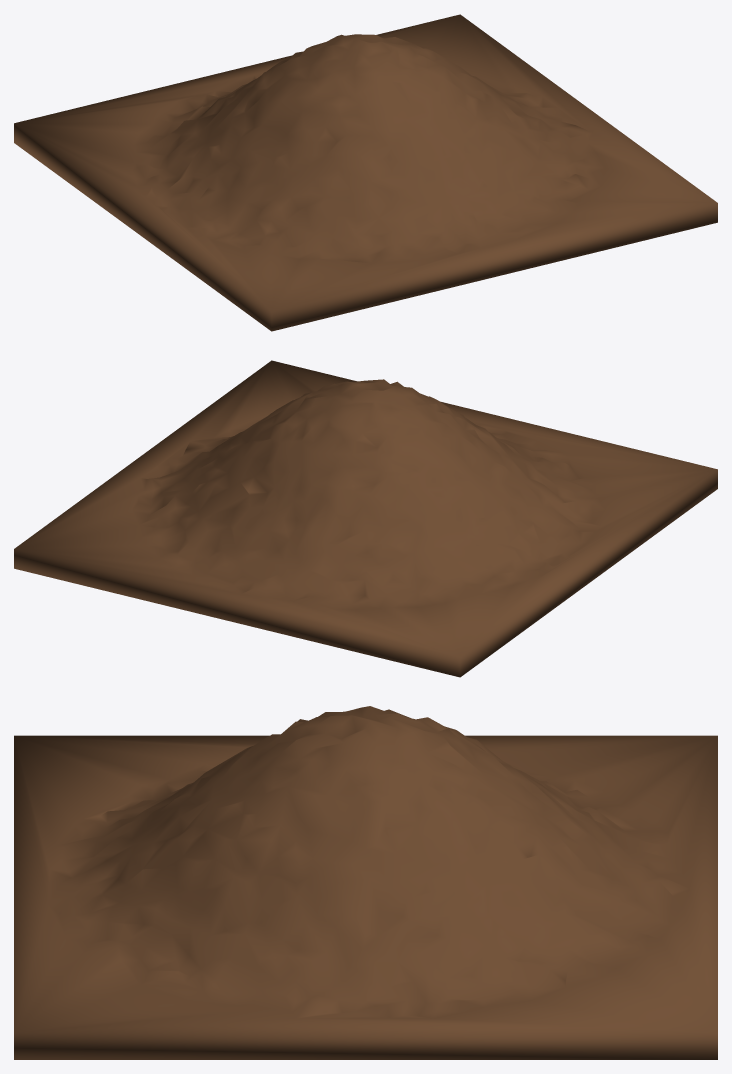
File: Monticulo_tierra.fbx
The picture shows the model from 3 angles, top to bottom: view 1: azimuth 30°, elevation 25°; view 2: azimuth 150°, elevation 25°; view 3: azimuth 270°, elevation 25°; orthographic projection. The views are drawn at different scales.
Parts seen in each view (by area): view 1: Monticulo_Tierra; view 2: Monticulo_Tierra; view 3: Monticulo_Tierra.
Boxes of the visible parts, x1,y1,x2,y2 form: Monticulo_Tierra: (14, 14, 717, 331); Monticulo_Tierra: (14, 360, 717, 677); Monticulo_Tierra: (14, 706, 717, 1059).
Size of the model in its own units: 11479 by 3517 by 11479.
